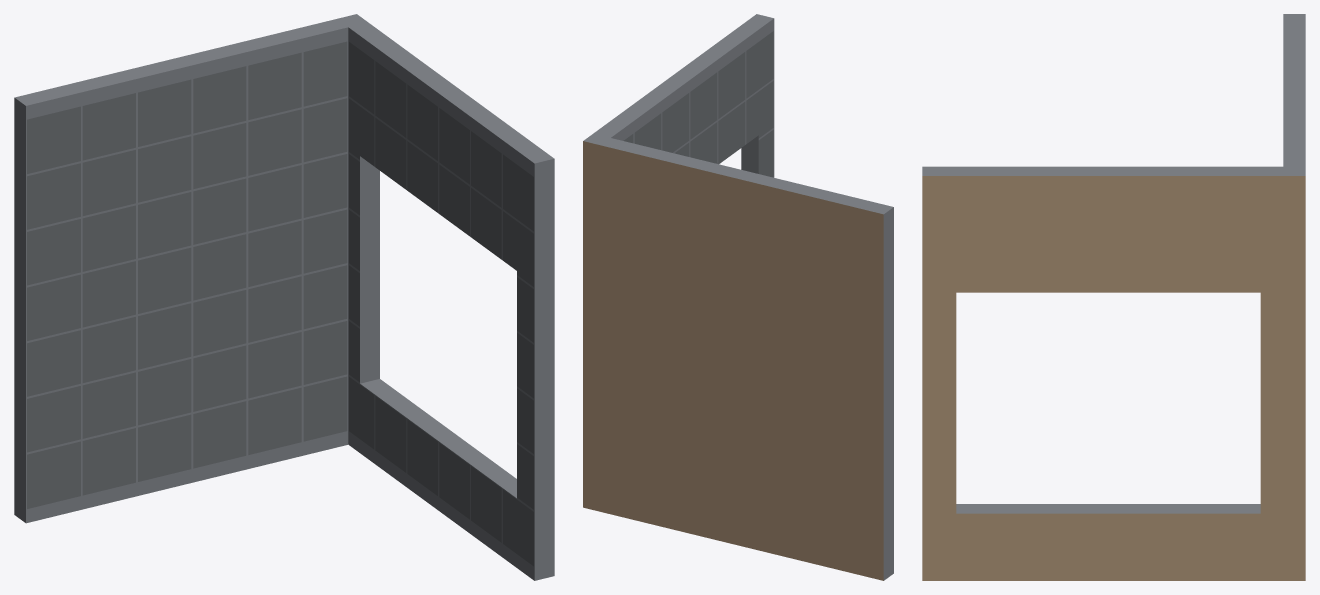
File: Wall2_C7_14.fbx
3 renders of one model, left to right at view 1: azimuth 30°, elevation 25°; view 2: azimuth 150°, elevation 25°; view 3: azimuth 270°, elevation 25°, orthographic. The views are drawn at different scales.
Visible parts, largest first — view 1: Wall2_C7_14; view 2: Wall2_C7_14; view 3: Wall2_C7_14.
Boxes of the visible parts, box(x1,y1,x2,y2) form: Wall2_C7_14: box(14, 14, 554, 580); Wall2_C7_14: box(583, 14, 893, 580); Wall2_C7_14: box(922, 14, 1305, 580).
Size of the model in its own units: 258 by 300 by 258.
